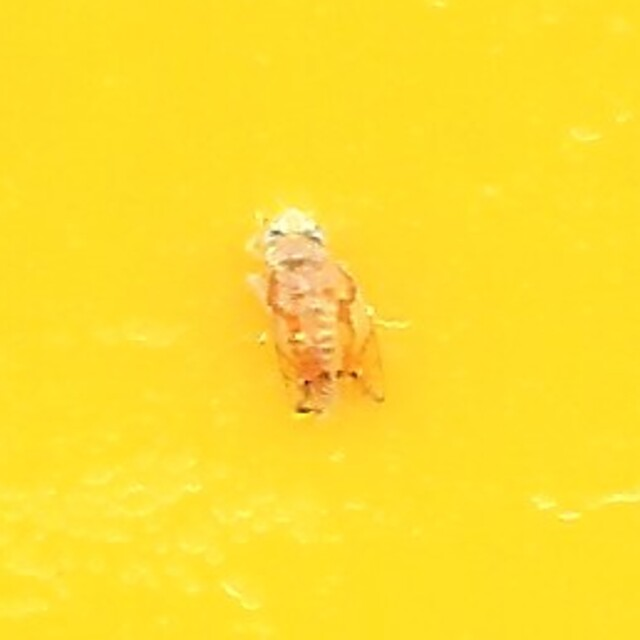Hemiptera: (248, 203, 392, 437)
